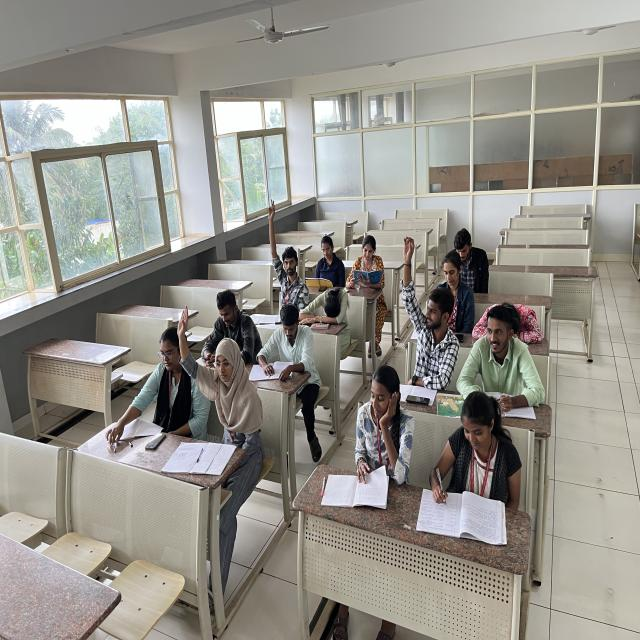Hand Rising: (171, 300, 258, 432), (393, 223, 459, 386), (265, 202, 313, 305)
Reading: (306, 235, 346, 288), (346, 236, 385, 290)
Sleeping: (472, 296, 547, 344), (298, 284, 349, 324)
Writing: (426, 401, 522, 525), (256, 307, 314, 382)
